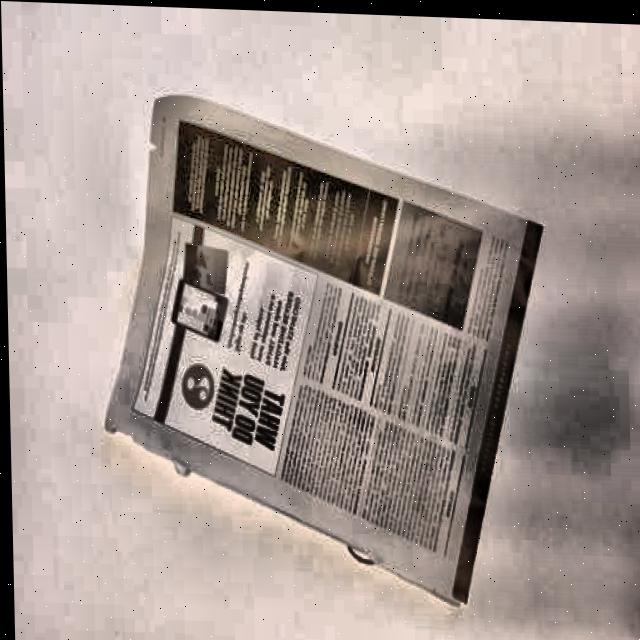paper: (94, 87, 554, 614)
